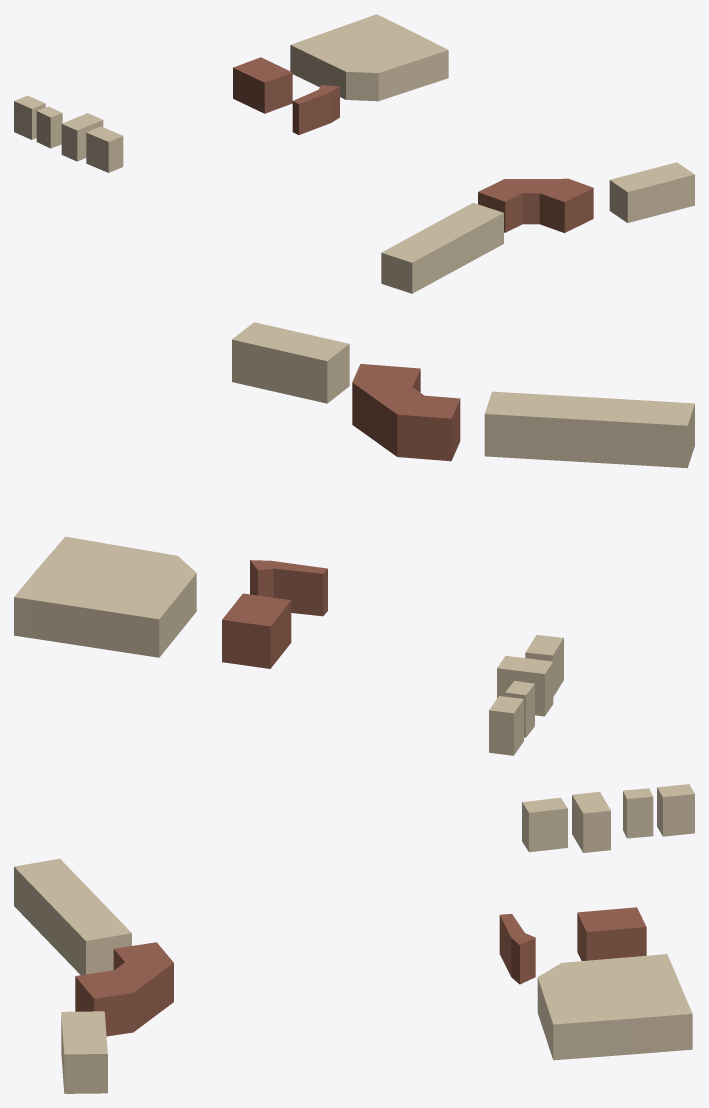
File: city_-2_-6.glb
3 views of the same model, one above another, from view 1: azimuth 30°, elevation 25°; view 2: azimuth 150°, elevation 25°; view 3: azimuth 270°, elevation 25° (orthographic). The views are drawn at different scales.
Visible parts, largest first — view 1: city_-2_-6; view 2: city_-2_-6; view 3: city_-2_-6.
Part boxes in pixels (x1,y1,x2,y2): city_-2_-6: (14, 14, 694, 293); city_-2_-6: (14, 322, 694, 755); city_-2_-6: (14, 784, 694, 1093).
Bounding box in the file's own units: 220 × 15 × 234.
